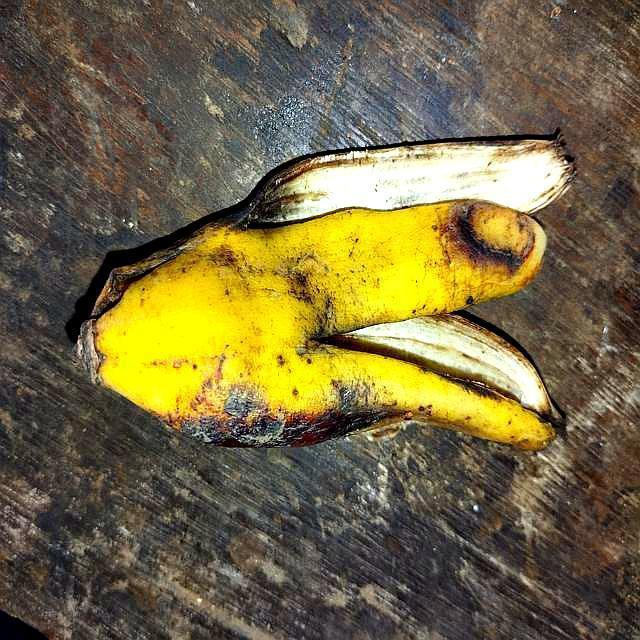Biodegradable: (63, 135, 585, 457)
